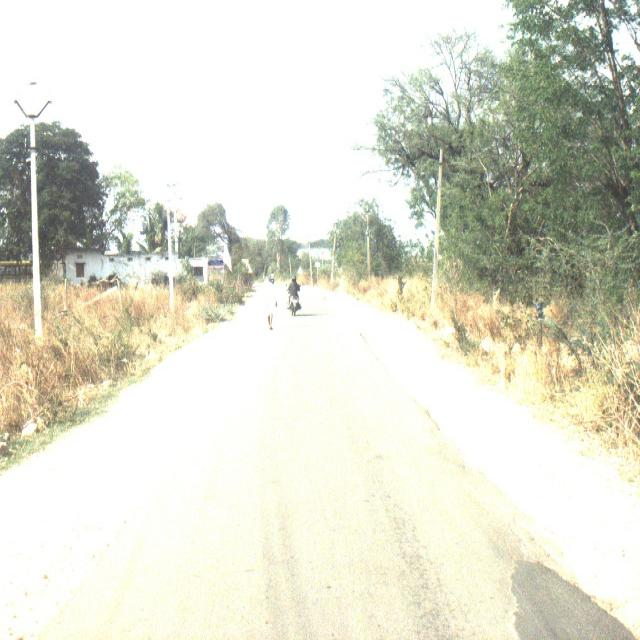high: (260, 274, 282, 329)
